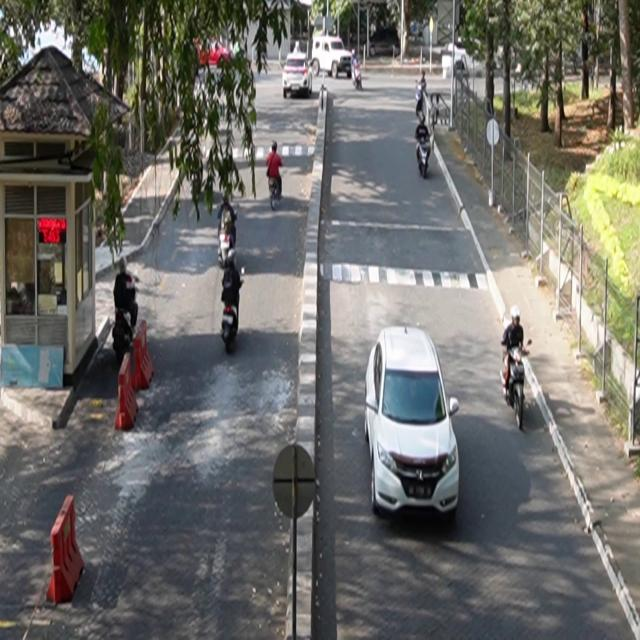car: (365, 325, 461, 520), (283, 53, 314, 99)
